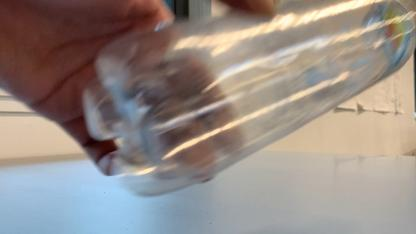Plastic Bottle: (73, 1, 406, 203)
